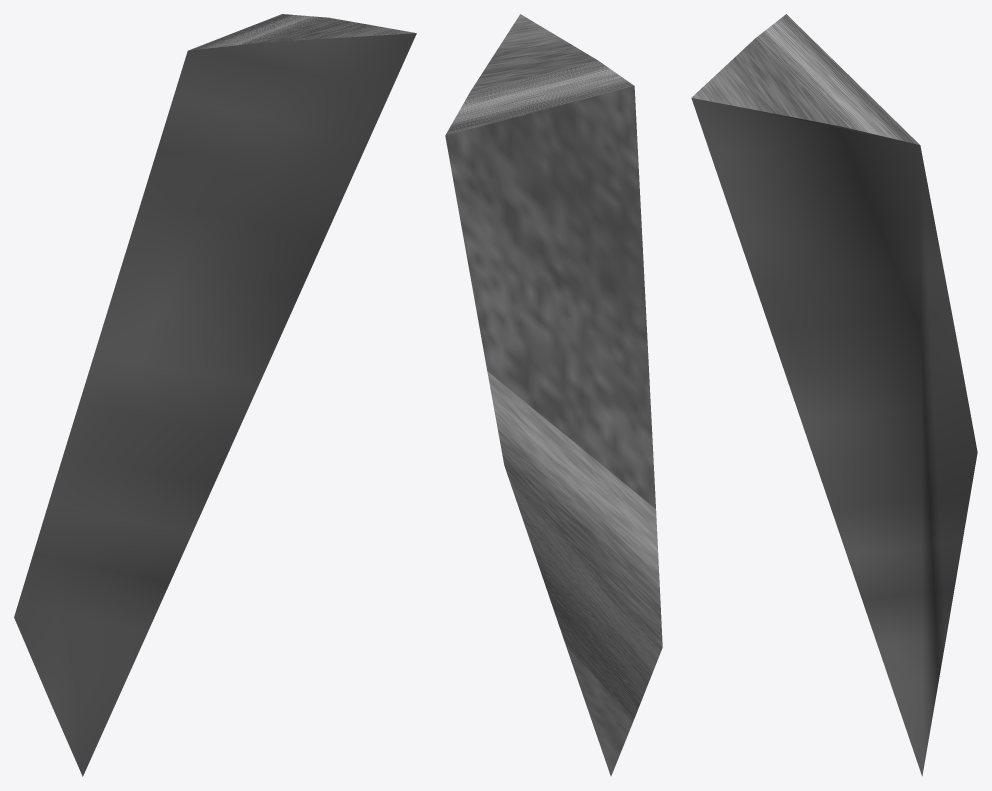
The model's file is leg_3_cell_006.fbx.
3 views of the same model, side by side, from view 1: azimuth 30°, elevation 25°; view 2: azimuth 150°, elevation 25°; view 3: azimuth 270°, elevation 25° (orthographic). The views are drawn at different scales.
Visible parts, largest first — view 1: leg_3_cell.006; view 2: leg_3_cell.006; view 3: leg_3_cell.006.
Part boxes in pixels (x1,y1,x2,y2): leg_3_cell.006: (14,14,416,776); leg_3_cell.006: (445,14,662,776); leg_3_cell.006: (691,14,977,776).
Size of the model in its own units: 2.85 by 7.34 by 2.41.
